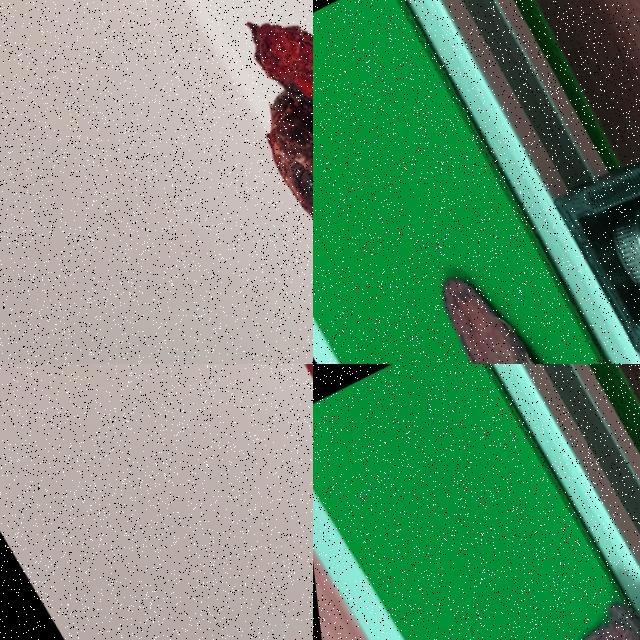Agglomerated_cocoabeans: (147, 0, 312, 363), (208, 364, 312, 595)
Flat_cocoabeans: (319, 146, 639, 363), (451, 524, 639, 639)
